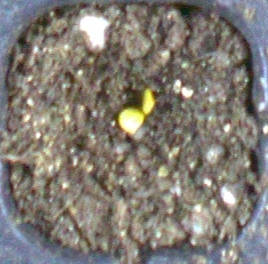chilli seed: (118, 107, 143, 134), (142, 87, 153, 115)
